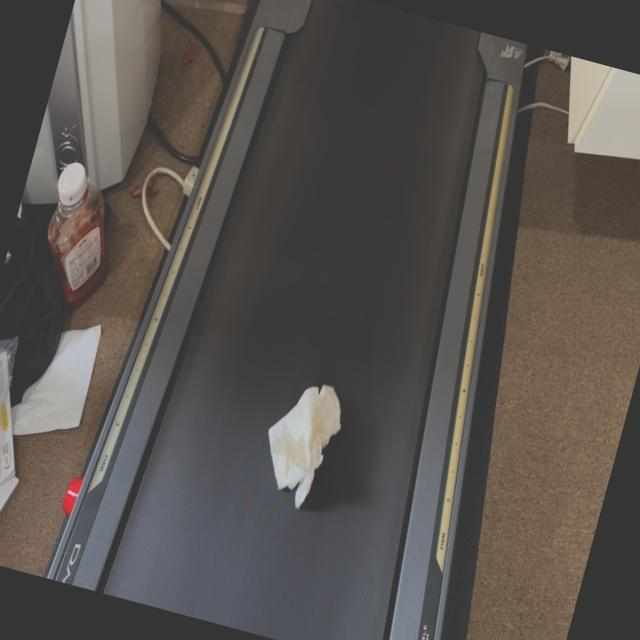Recycle: (249, 372, 351, 512)
